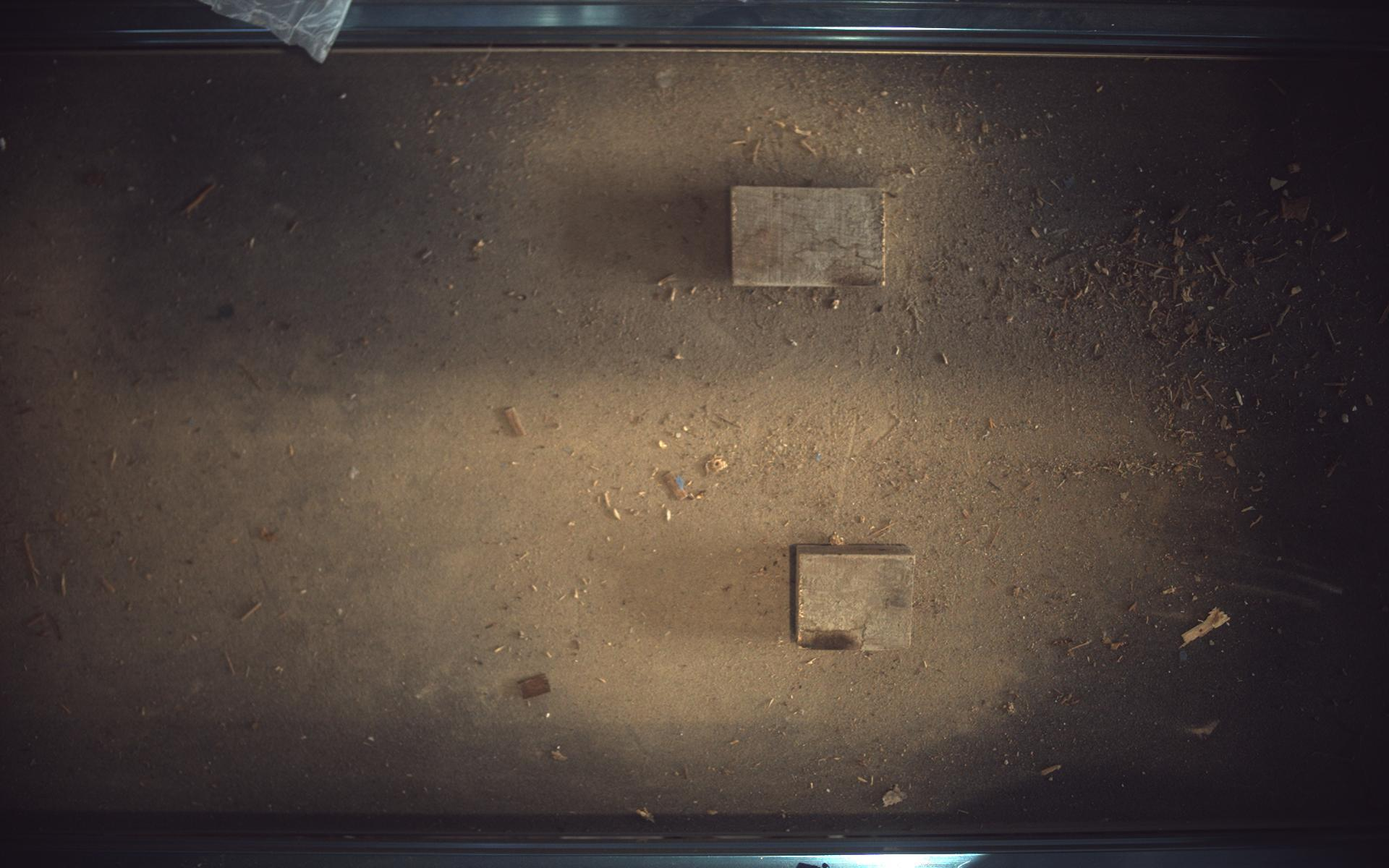wood: (733, 185, 885, 286), (793, 545, 917, 651)
